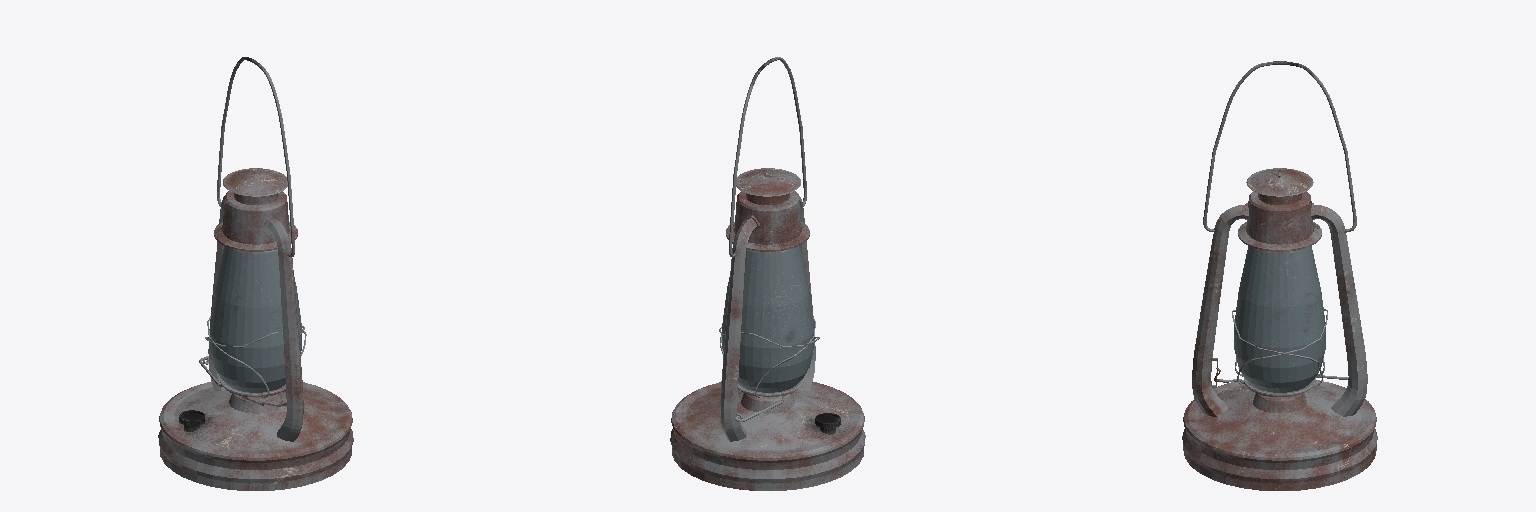
3 views of the same model, side by side, from view 1: azimuth 30°, elevation 25°; view 2: azimuth 150°, elevation 25°; view 3: azimuth 270°, elevation 25° (orthographic).
Parts seen in each view (by area): view 1: Material-material, Material_001-material; view 2: Material-material, Material_001-material; view 3: Material-material, Material_001-material.
Boxes of the visible parts, <box> form: Material-material: <box>158,57,353,490</box>; Material_001-material: <box>210,246,301,392</box>; Material-material: <box>670,57,865,490</box>; Material_001-material: <box>722,246,813,392</box>; Material-material: <box>1182,61,1377,490</box>; Material_001-material: <box>1234,246,1325,392</box>.
Size of the model in its own units: 2.03 by 4.44 by 2.03.
2 materials, 2 textured.